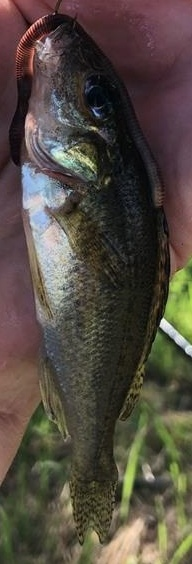Gymnocephalus cernuus: (20, 20, 172, 544)
